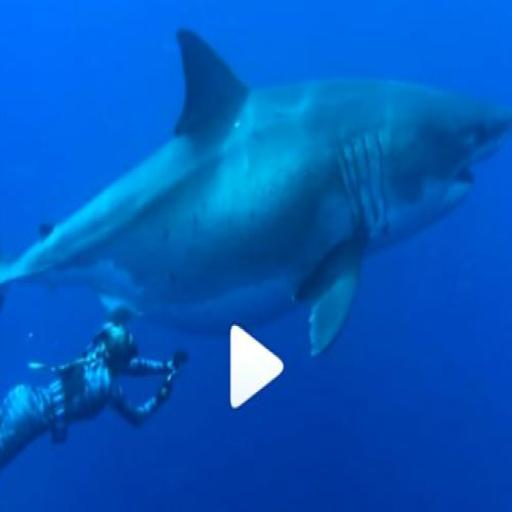swimming: (0, 310, 188, 492)
